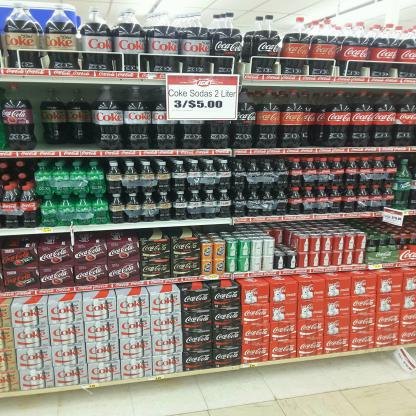Void: (39, 144, 95, 149)
